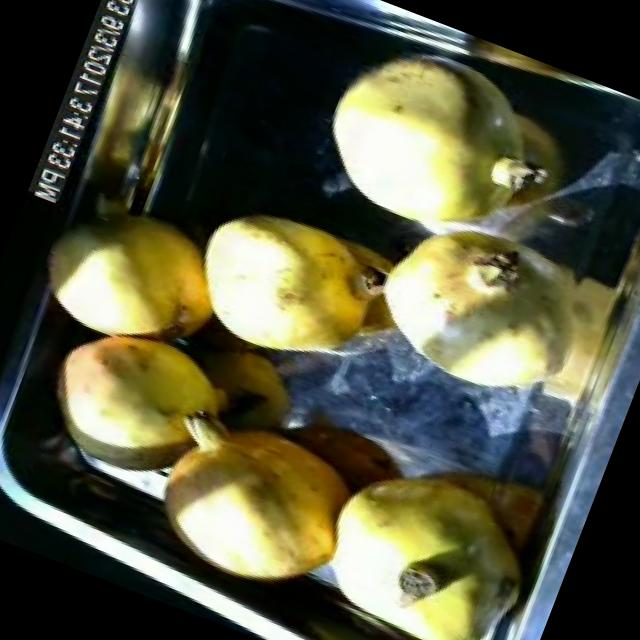fruit: (290, 17, 570, 272), (336, 196, 607, 430), (118, 380, 380, 615), (288, 424, 566, 640), (166, 183, 418, 401), (19, 302, 249, 519), (19, 175, 246, 375)
